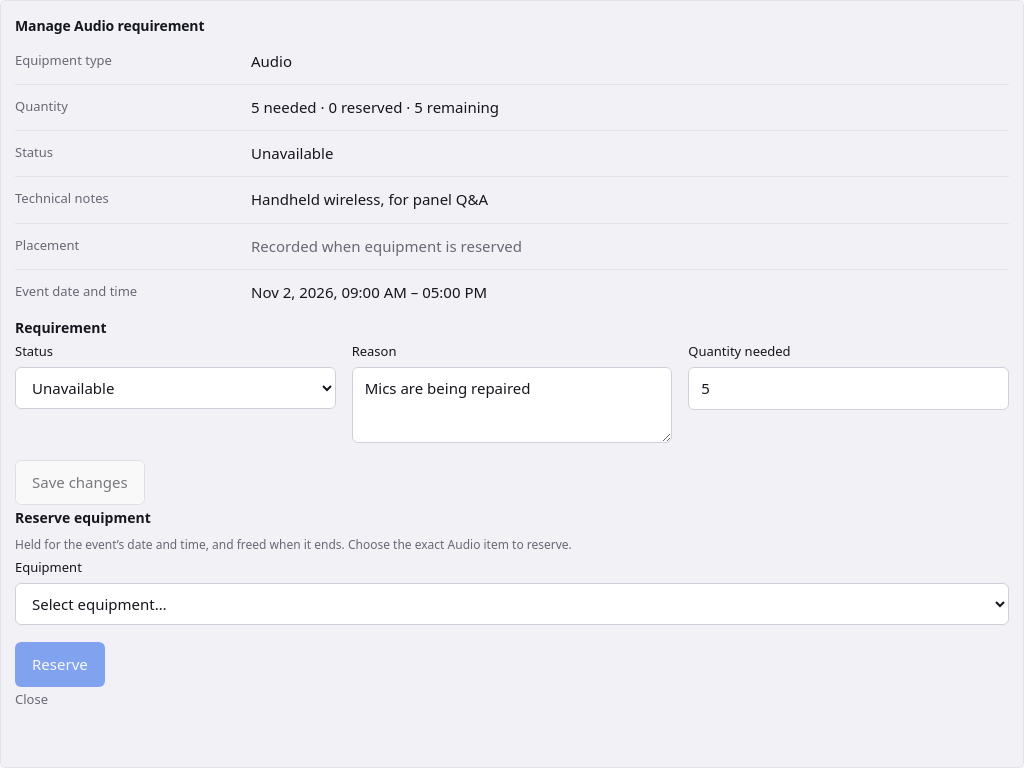
Test case: the reason for Unavailable › goes away again if Requested is chosen instead
Select "Requested" in the dropdown labelled "Status" at (175, 388), box [15,367,336,409]
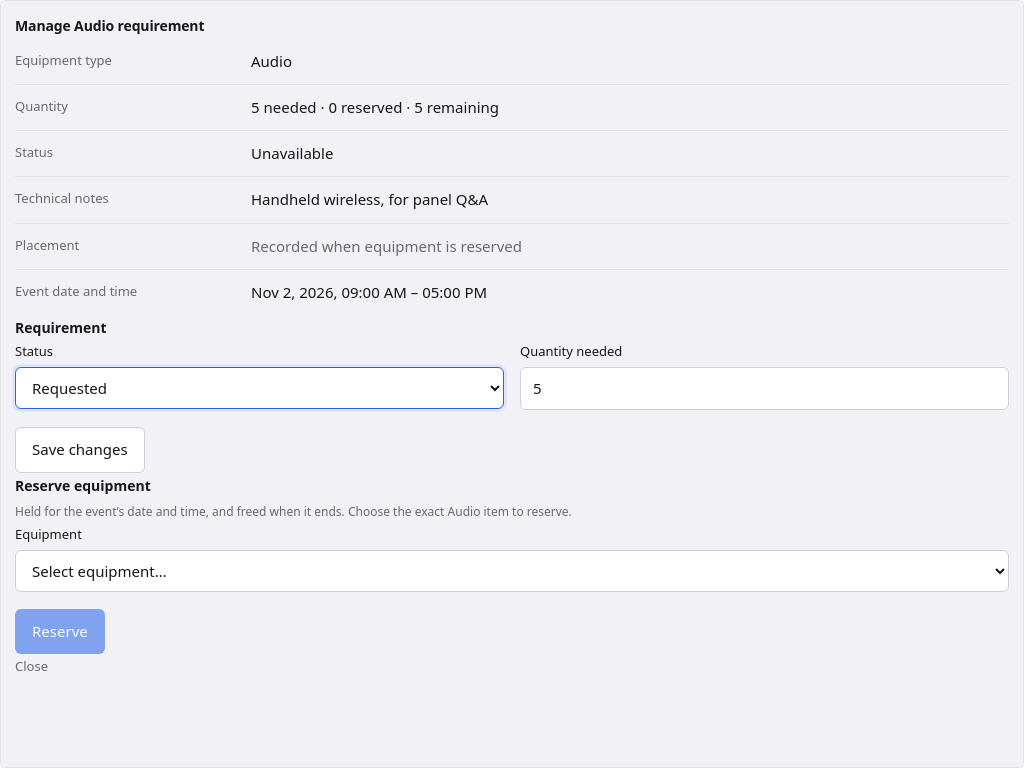
Expected: the label labelled "Reason" is gone
